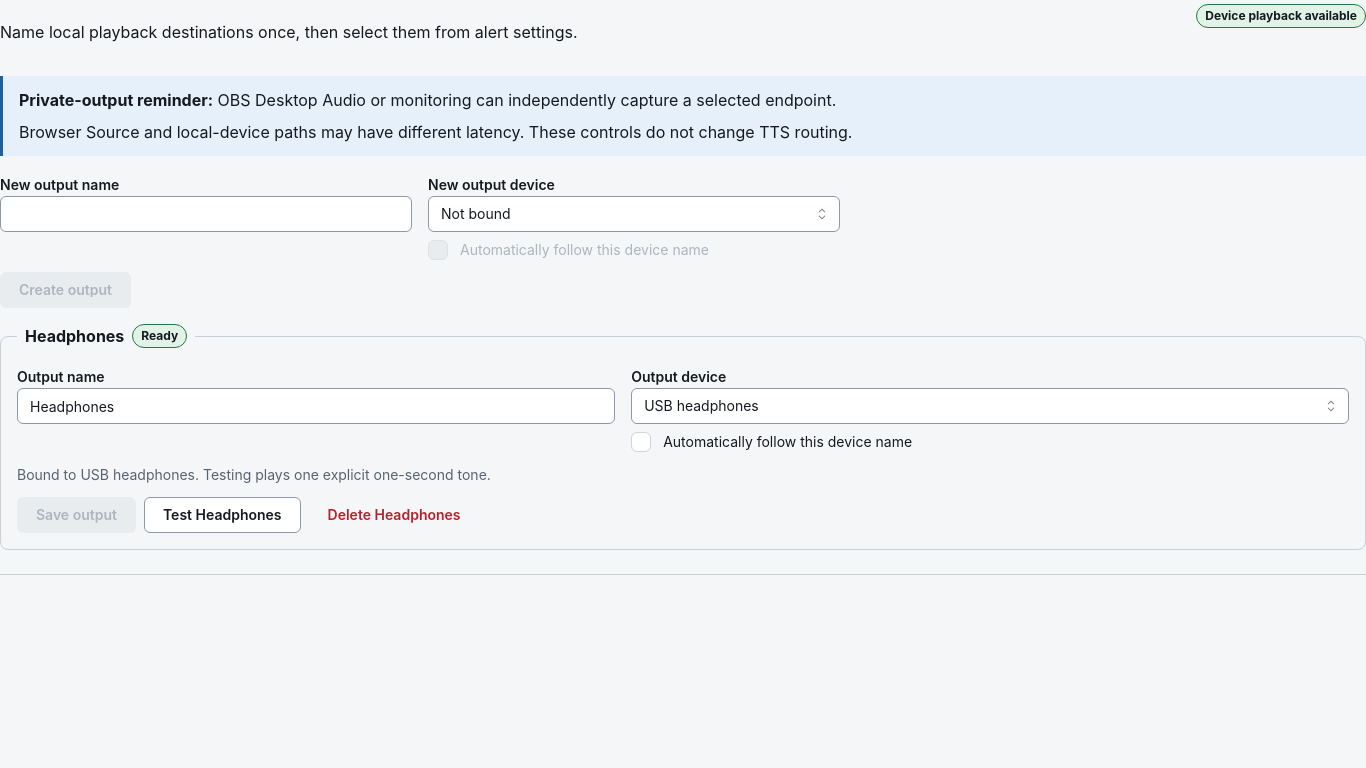
Test case: AudioOutputsPanel › embedded in Settings, names the region without a repeated heading and returns focus to its description
Click the button "Delete Headphones". click: x=394, y=515
box: left=309, top=497, right=480, bottom=533
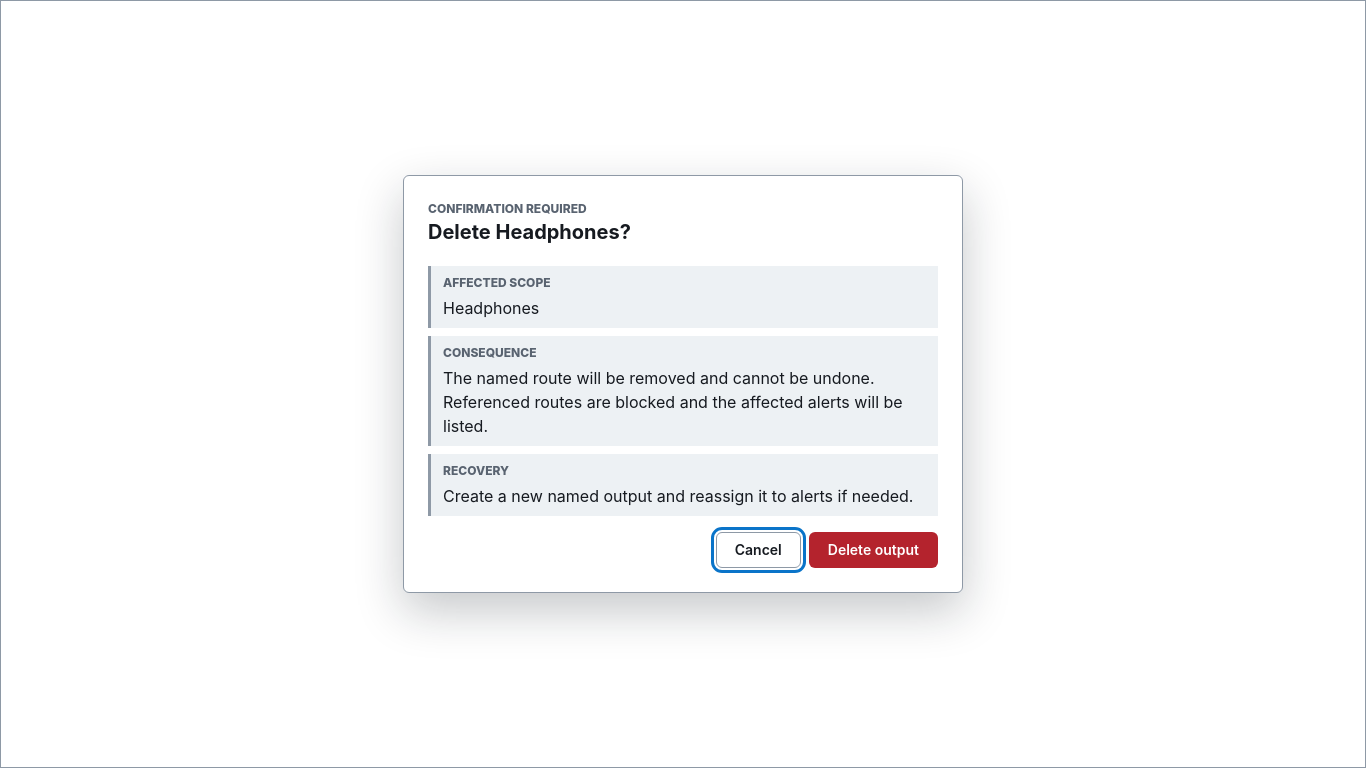
Expected: the element named "Audio outputs" is shown, left=0, top=0, right=1024, bottom=575
Expected: the heading "Audio outputs" is not shown
Click the button "Delete output". click: x=873, y=550
box: left=809, top=532, right=938, bottom=568
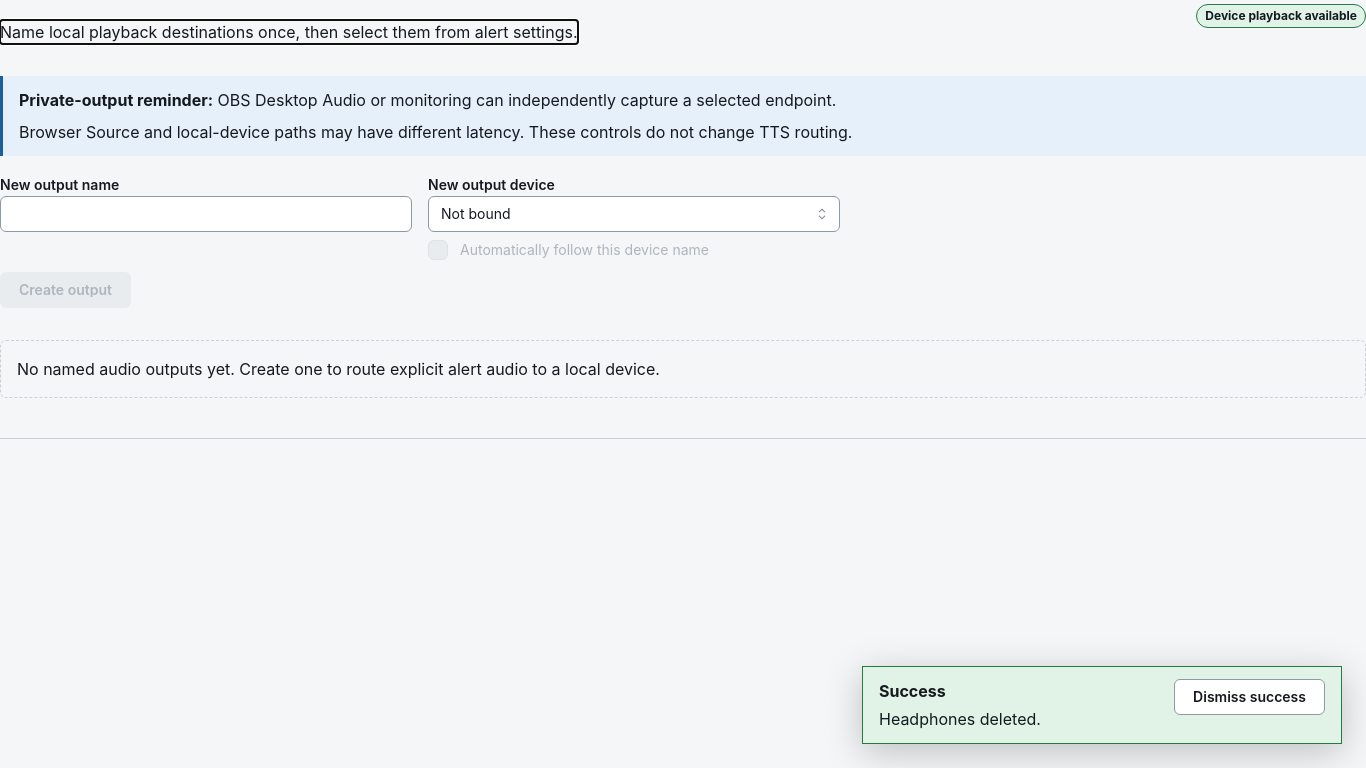
Now the dialog is gone
